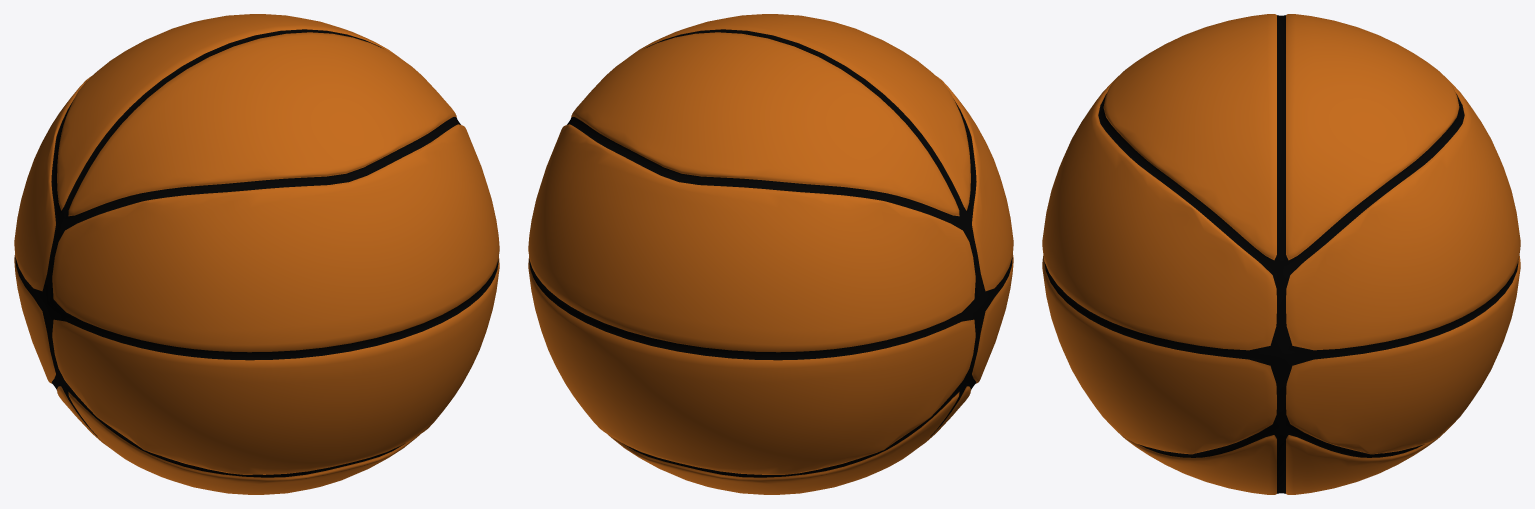
File: BasketballBall.fbx
3 renders of one model, left to right at view 1: azimuth 30°, elevation 25°; view 2: azimuth 150°, elevation 25°; view 3: azimuth 270°, elevation 25°, orthographic.
Parts seen in each view (by area): view 1: Cube; view 2: Cube; view 3: Cube.
Part boxes in pixels (x1,y1,x2,y2): Cube: (14,14,499,494); Cube: (528,14,1013,494); Cube: (1042,14,1520,494).
Size of the model in its own units: 257 by 254 by 254.
